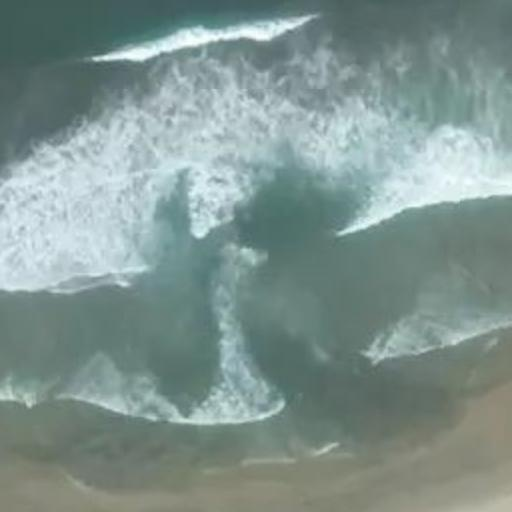rip_current: (225, 167, 414, 413)
